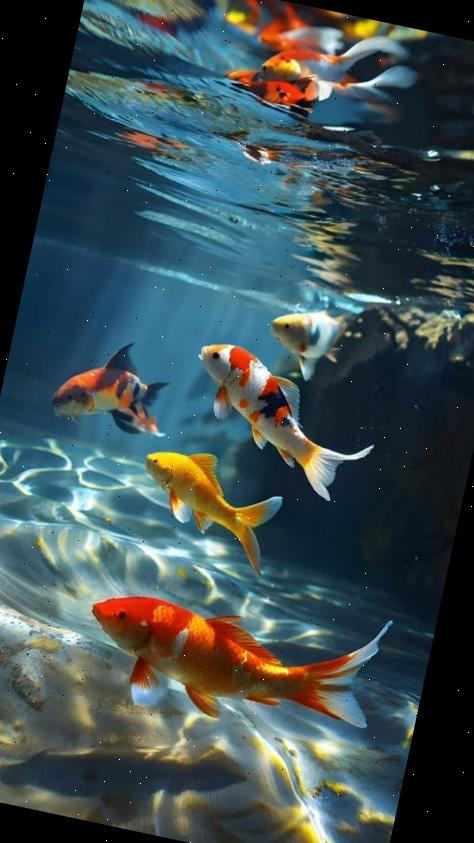fish: (71, 555, 394, 756), (174, 337, 390, 508), (124, 441, 286, 578), (48, 329, 176, 442), (260, 304, 350, 384)
